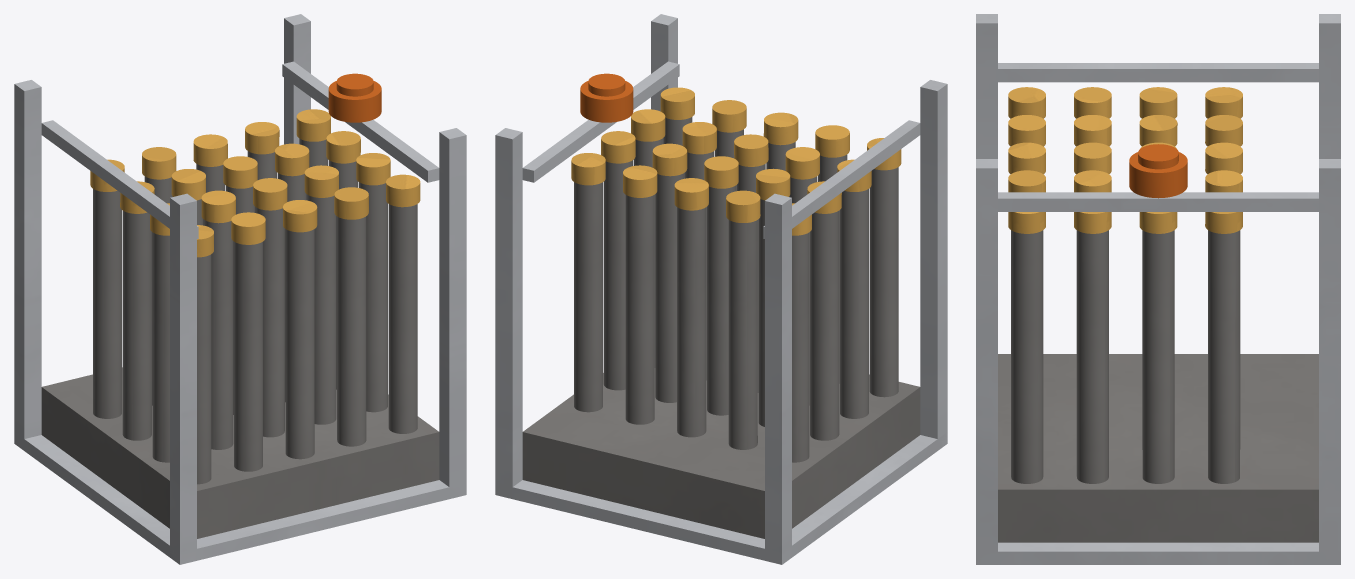
Rendered from sci06_sample_cache_cache.glb.
The picture shows the model from 3 angles, left to right: view 1: azimuth 30°, elevation 25°; view 2: azimuth 150°, elevation 25°; view 3: azimuth 270°, elevation 25°; orthographic projection. The views are drawn at different scales.
Visible parts, largest first — view 1: tubes, slot_frame, rack, tube_caps, lid_frame, port_1; view 2: tubes, slot_frame, rack, tube_caps, lid_frame, port_1; view 3: rack, tubes, slot_frame, tube_caps, lid_frame, port_1.
Boxes of the visible parts, x1,y1,x2,y2 form: tubes: (93, 138, 417, 484); slot_frame: (14, 14, 466, 564); rack: (41, 367, 439, 538); tube_caps: (90, 109, 420, 257); lid_frame: (41, 61, 439, 238); port_1: (328, 73, 381, 122); tubes: (574, 117, 898, 462); slot_frame: (495, 14, 947, 564); rack: (522, 368, 920, 538); tube_caps: (571, 87, 901, 235); lid_frame: (522, 61, 920, 238); port_1: (580, 73, 633, 122); rack: (998, 354, 1318, 542); tubes: (1011, 230, 1240, 483); slot_frame: (976, 14, 1340, 564); tube_caps: (1008, 87, 1242, 233); lid_frame: (998, 63, 1318, 211); port_1: (1129, 144, 1187, 198).
Size of the model in its own units: 0.5 by 0.6 by 0.5.
Materials: 4 (3 with a texture image).
